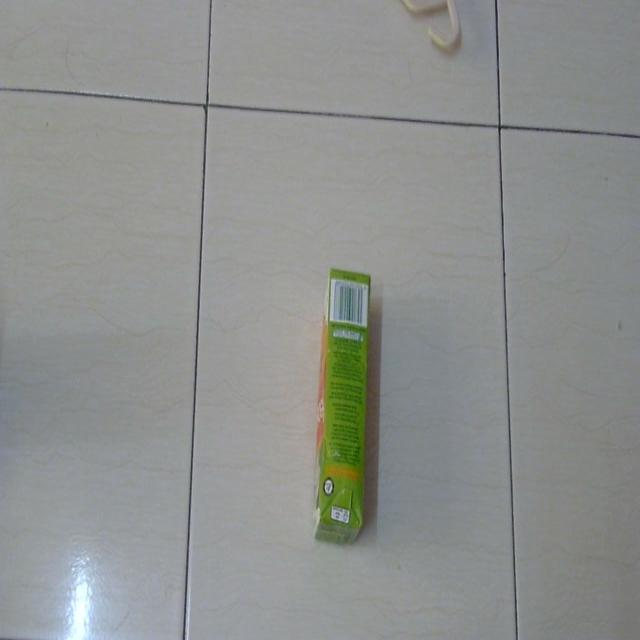plastic_laydown_90rotation: (306, 258, 392, 561)
